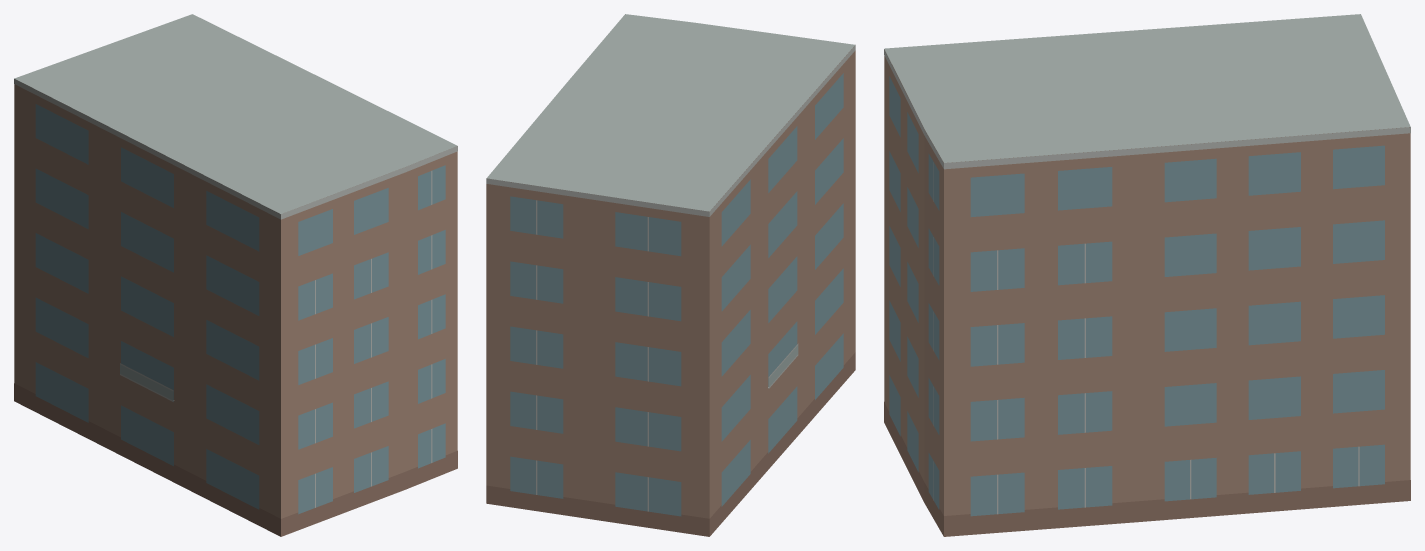
Rendered from survey-upis-32705674.glb.
3 renders of one model, left to right at view 1: azimuth 30°, elevation 25°; view 2: azimuth 150°, elevation 25°; view 3: azimuth 270°, elevation 25°, orthographic. The views are drawn at different scales.
Parts seen in each view (by area): view 1: survey-upis-32705674.tmp; view 2: survey-upis-32705674.tmp; view 3: survey-upis-32705674.tmp.
Part boxes in pixels (x1=…): survey-upis-32705674.tmp: x1=14, y1=14, x2=457, y2=536; survey-upis-32705674.tmp: x1=486, y1=14, x2=855, y2=536; survey-upis-32705674.tmp: x1=884, y1=14, x2=1410, y2=536.
Size of the model in its own units: 12.41 by 14.5 by 18.52.
